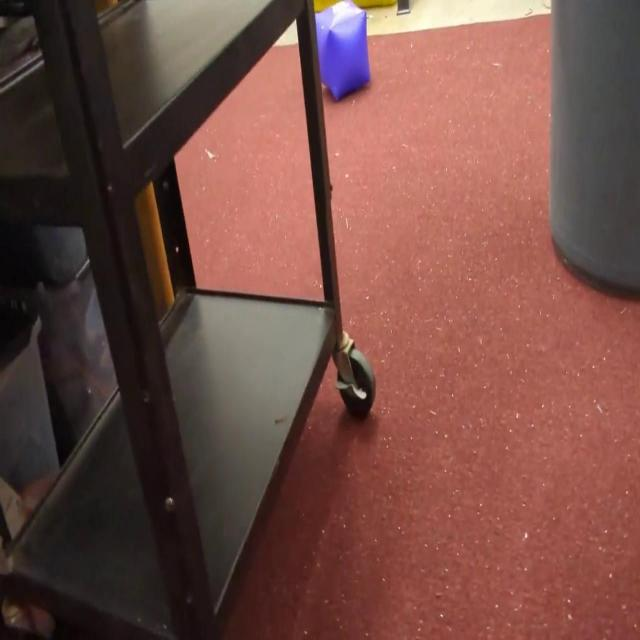frc_cube: (314, 2, 369, 100)
